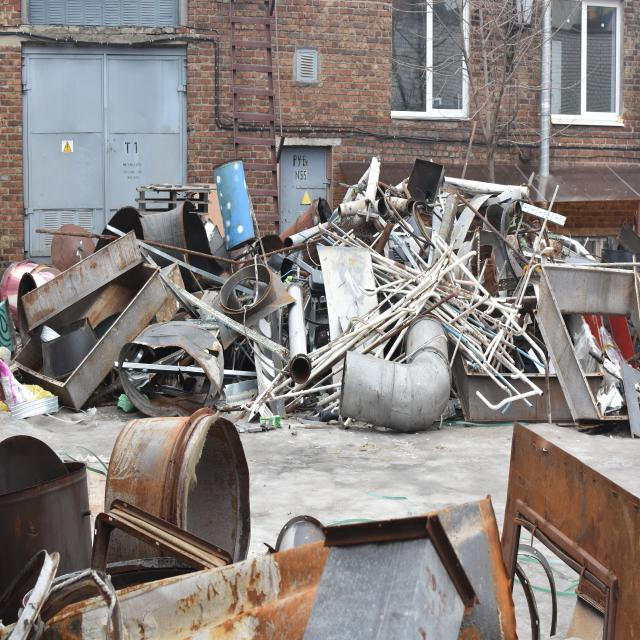entulho: (352, 152, 640, 412), (48, 492, 499, 640), (0, 201, 315, 410), (498, 422, 640, 639), (269, 215, 391, 403), (109, 418, 252, 576), (0, 432, 95, 611), (207, 156, 264, 256), (137, 178, 212, 220)
